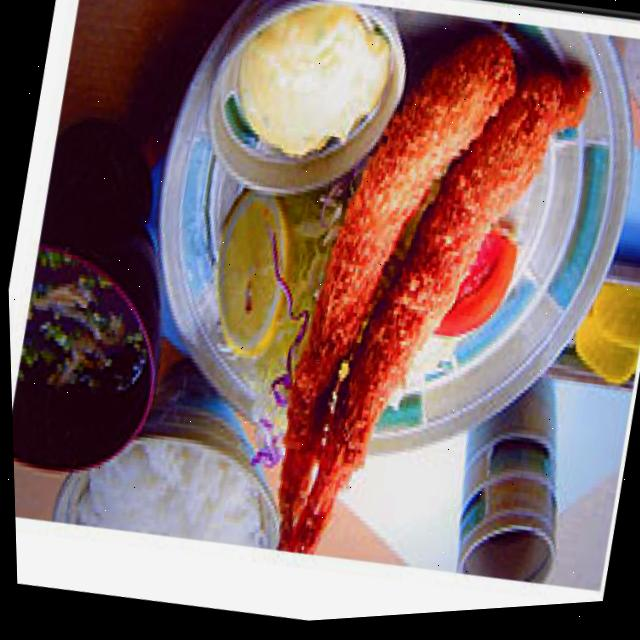炸货点心: (230, 0, 611, 605)
熟制海鲜: (230, 0, 611, 605)
